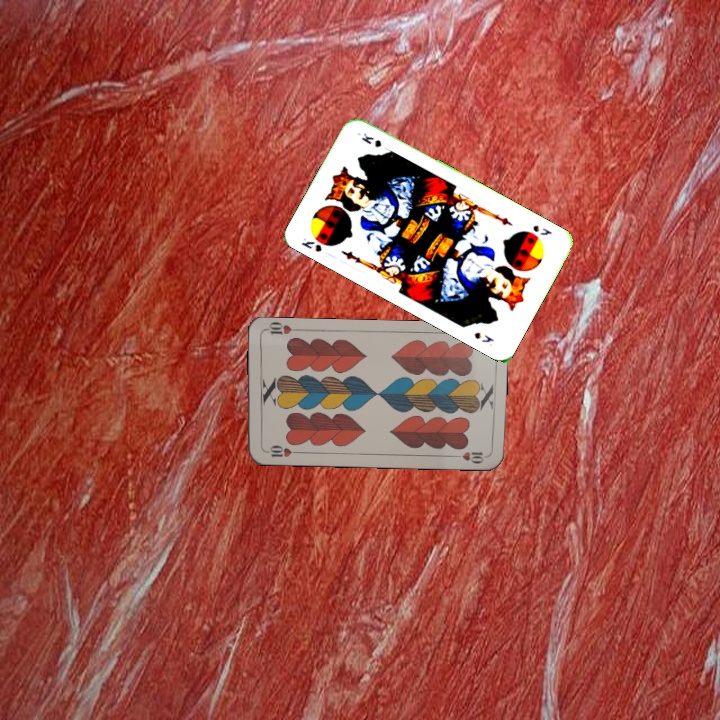H10: (260, 441, 301, 460)
SK: (297, 234, 324, 255), (529, 221, 554, 238)
